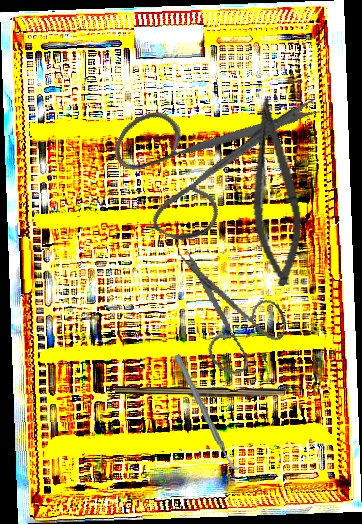Chopper: (173, 351, 243, 475)
Iris Scissors: (89, 28, 325, 273), (154, 246, 298, 385)
Micro Scissor: (234, 94, 313, 289)
Scalpel Handle: (115, 386, 285, 399)
